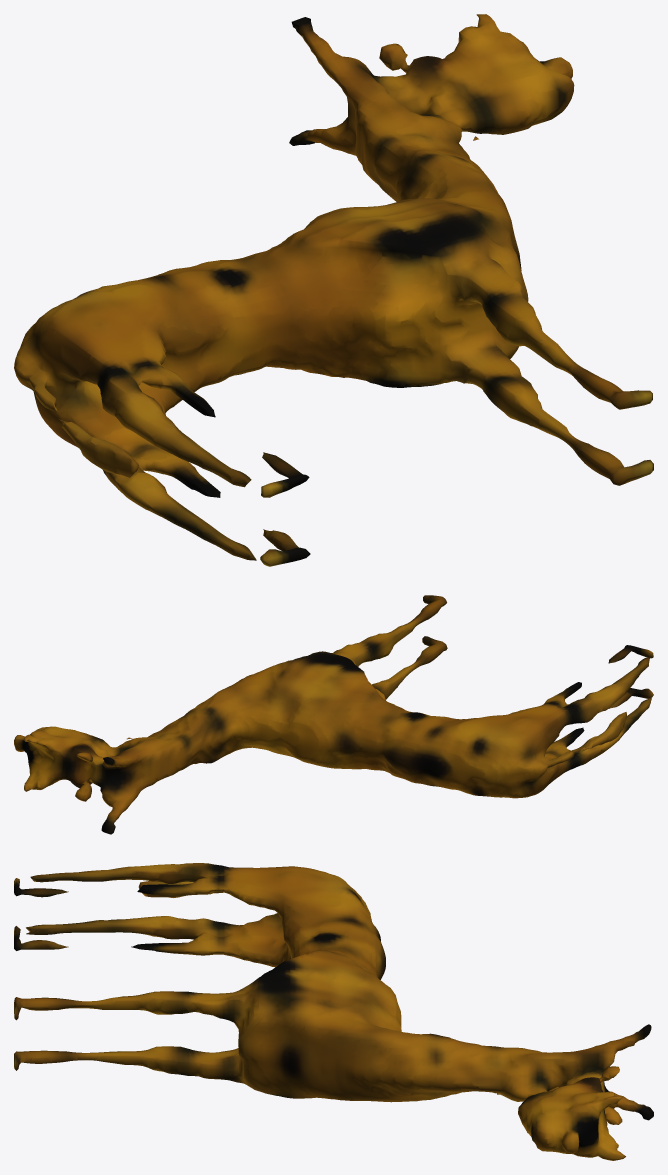
3 renders of one model, top to bottom at view 1: azimuth 30°, elevation 25°; view 2: azimuth 150°, elevation 25°; view 3: azimuth 270°, elevation 25°, orthographic. The views are drawn at different scales.
Parts seen in each view (by area): view 1: plyFile; view 2: plyFile; view 3: plyFile.
Boxes of the visible parts, bbox=[...] form: plyFile: bbox=[14, 14, 653, 566]; plyFile: bbox=[14, 595, 653, 834]; plyFile: bbox=[14, 863, 653, 1160].
Size of the model in its own units: 190 by 34.32 by 196.
